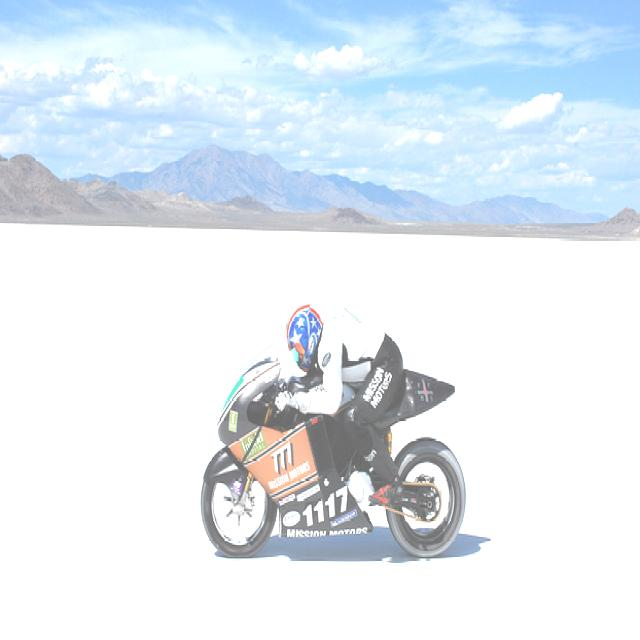Vehicle: (200, 346, 468, 562)
